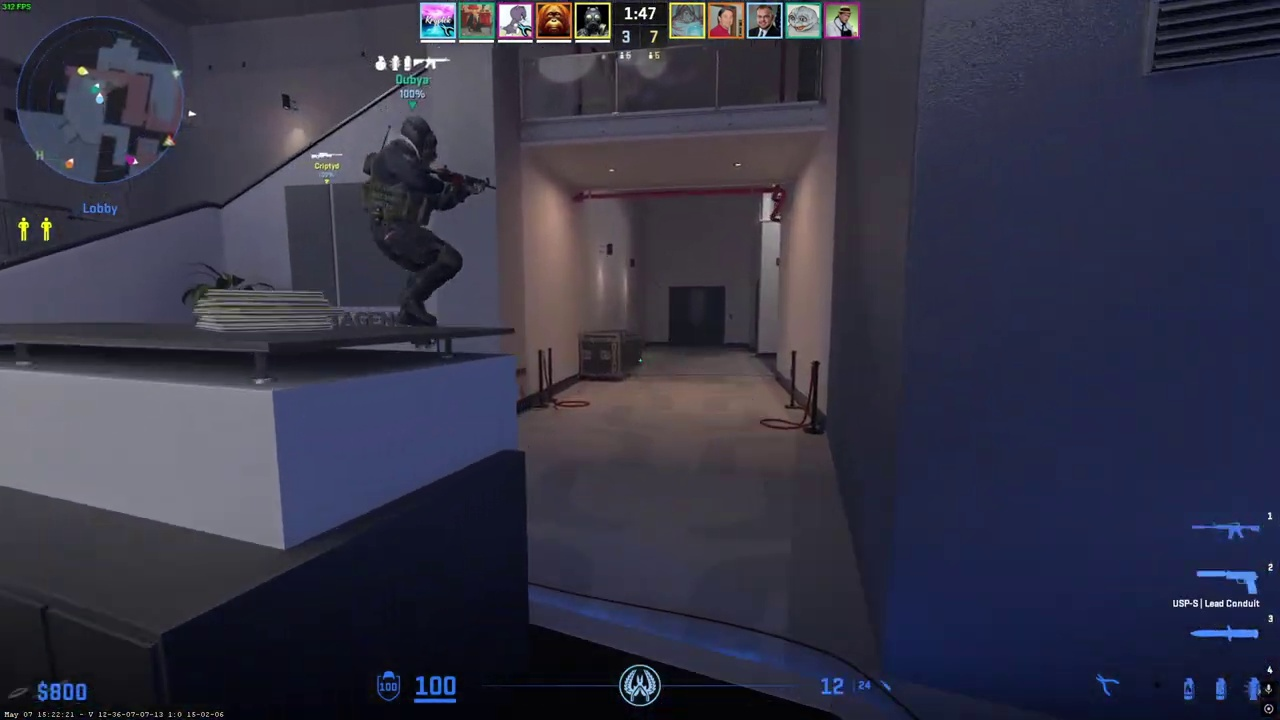CT: (365, 114, 472, 327)
